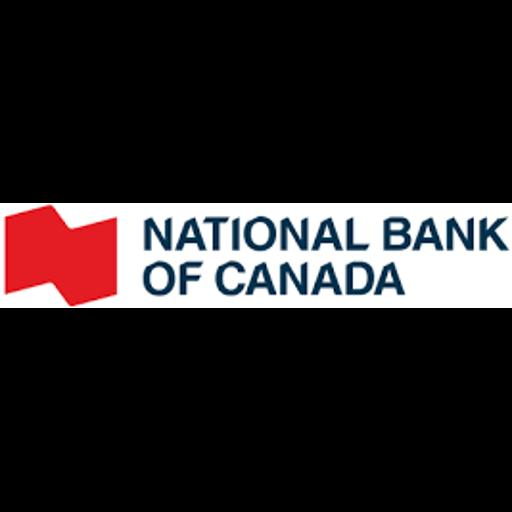National Bank of Canada: (0, 203, 512, 308)
